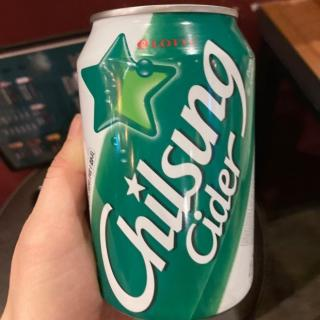cocacola: (73, 2, 255, 320)
